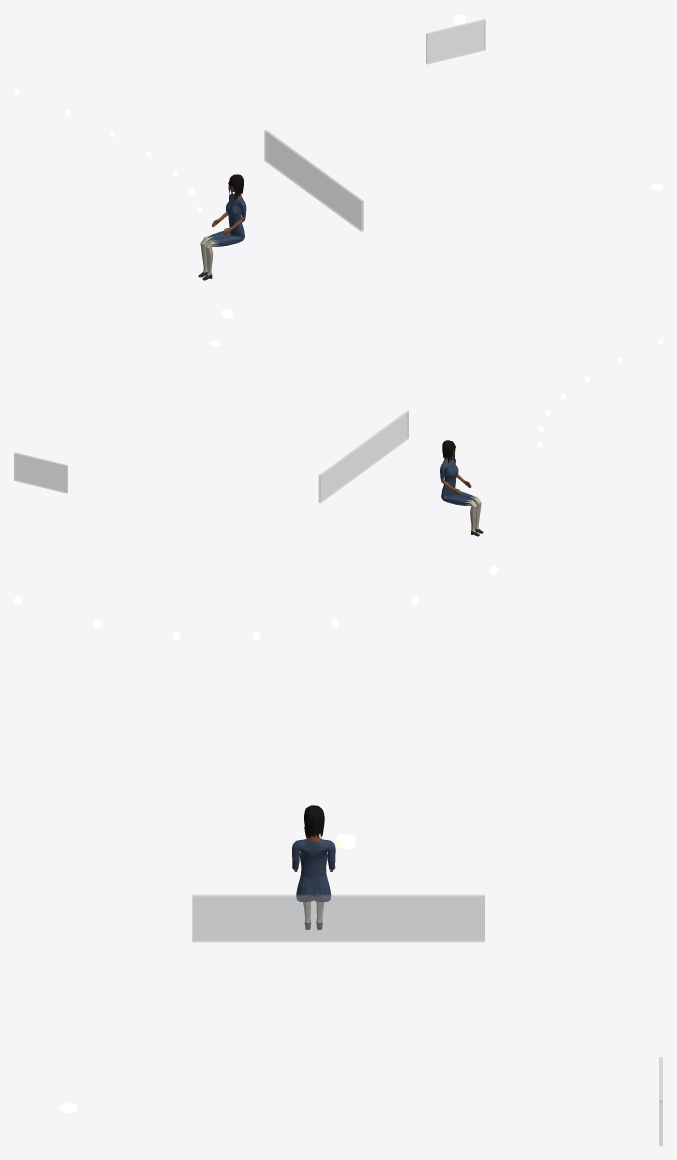
The model's file is room-terrace-fixtures.gltf.
3 renders of one model, top to bottom at view 1: azimuth 30°, elevation 25°; view 2: azimuth 150°, elevation 25°; view 3: azimuth 270°, elevation 25°, orthographic. The views are drawn at different scales.
Visible parts, largest first — view 1: room-terrace.baked.glass.001, room-terrace.baked.flat.001, room-terrace.baked.glow.001; view 2: room-terrace.baked.glass.001, room-terrace.baked.flat.001, room-terrace.baked.glow.001; view 3: room-terrace.baked.glass.001, room-terrace.baked.flat.001, room-terrace.baked.glow.001.
Boxes of the visible parts, x1,y1,x2,y2 form: room-terrace.baked.glass.001: (264, 19, 485, 231); room-terrace.baked.flat.001: (198, 174, 246, 280); room-terrace.baked.glow.001: (14, 14, 662, 212); room-terrace.baked.glass.001: (14, 411, 408, 503); room-terrace.baked.flat.001: (440, 440, 483, 536); room-terrace.baked.glow.001: (210, 309, 662, 447); room-terrace.baked.glass.001: (192, 895, 662, 1145); room-terrace.baked.flat.001: (292, 805, 335, 929); room-terrace.baked.glow.001: (14, 565, 497, 1113).
Bounding box in the file's own units: 2.82 × 0.9644 × 2.
